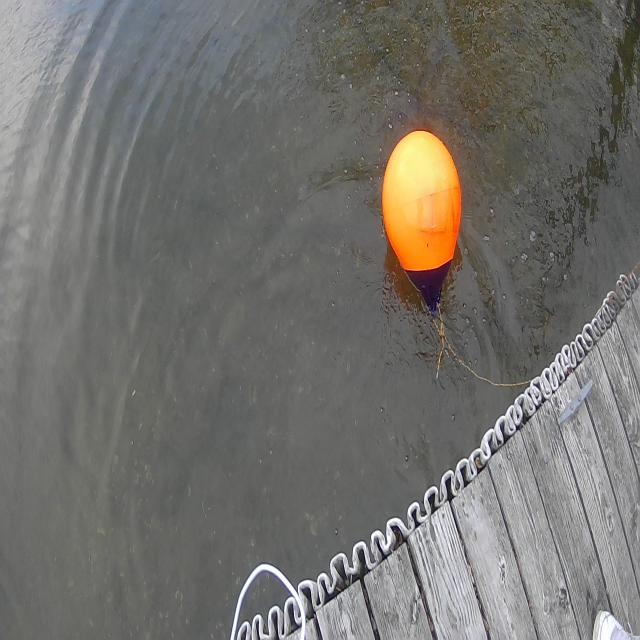Buoy: (376, 116, 468, 313)
